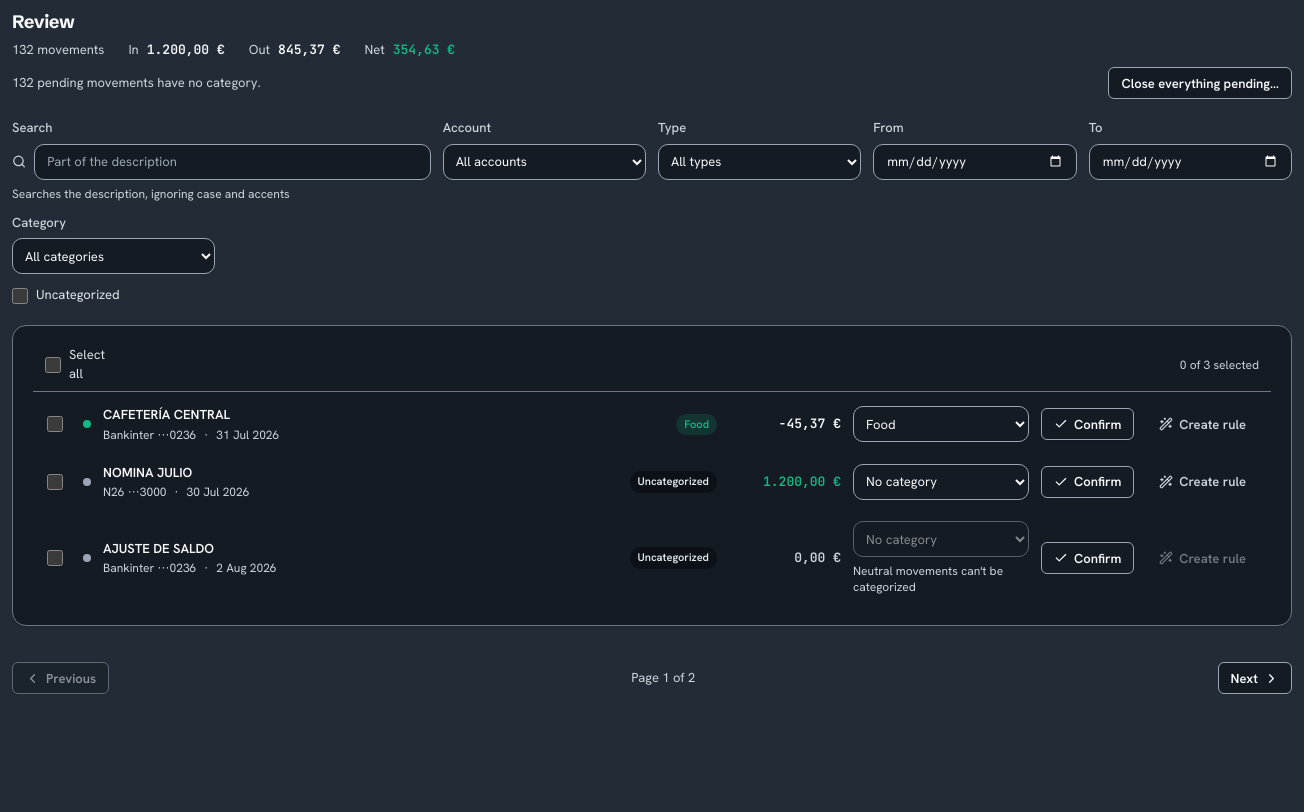
it: ReviewView › selecting and acting (R1, R3, R6, R10, R13) › undoes the last action and brings the rows back (R13)
Step 1. Click the button with test id "movement-confirm" → click(1088, 424), box [1041,408,1134,440]
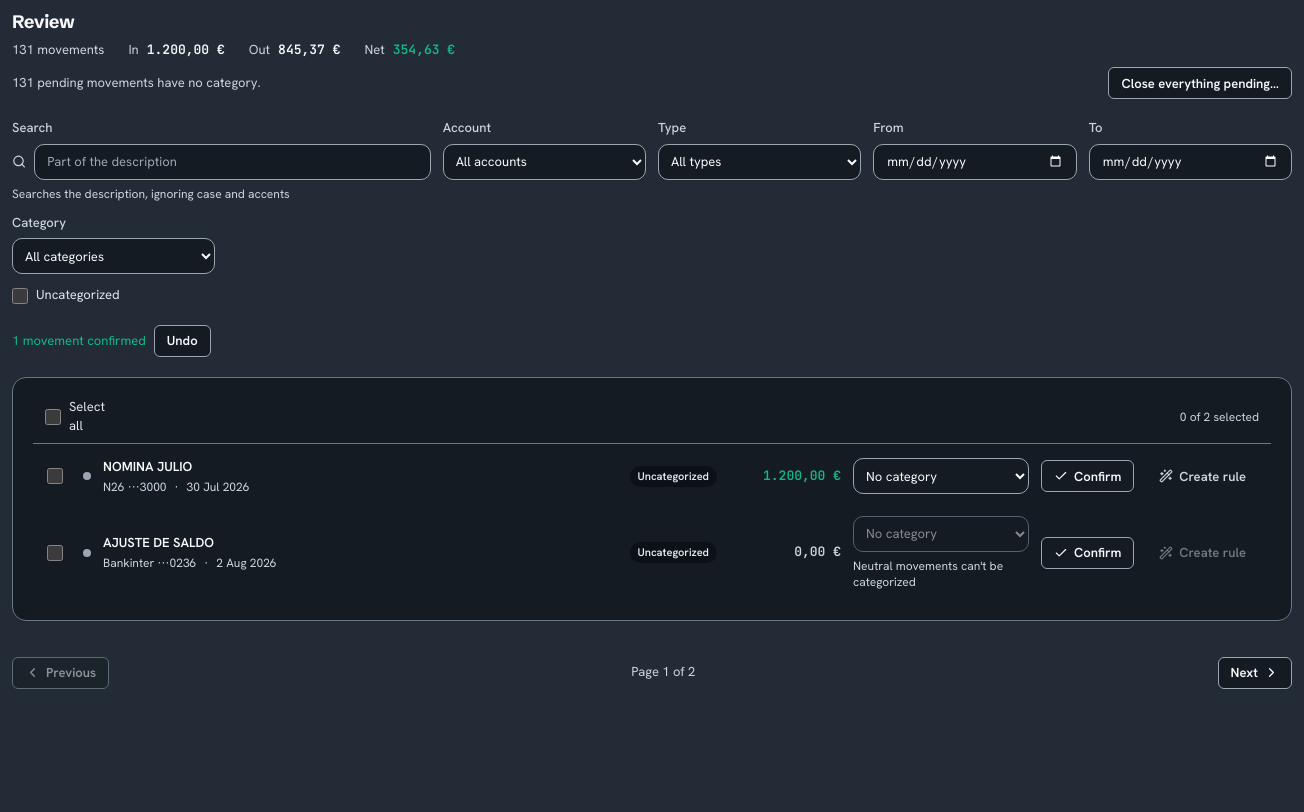
Expected: the number of list items with test id "movement-row" is 2, [33,448,1271,506]; [33,506,1271,600]
Step 2. Click the button with test id "action-undo" → click(182, 341), box [154,325,211,357]
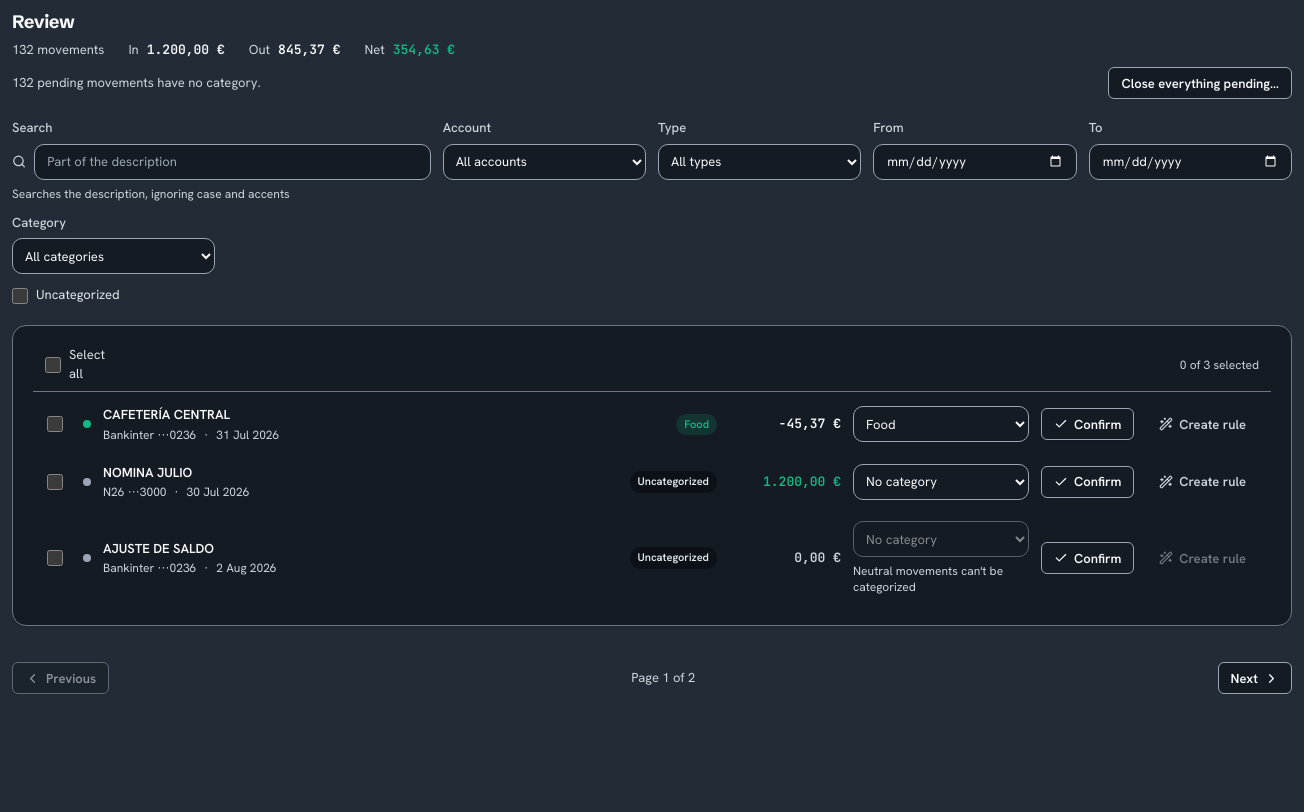
Expected: the number of list items with test id "movement-row" is 3, [33,396,1271,454]; [33,454,1271,511]; [33,511,1271,605]
